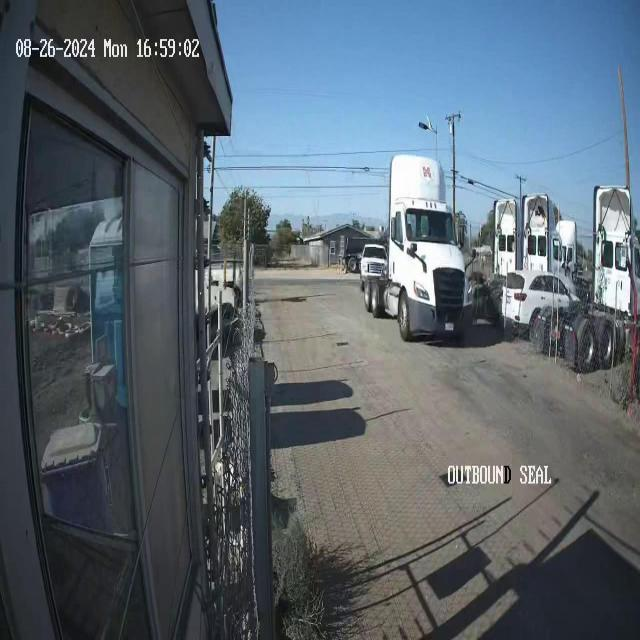TRUCK_IN: (361, 148, 477, 346)
